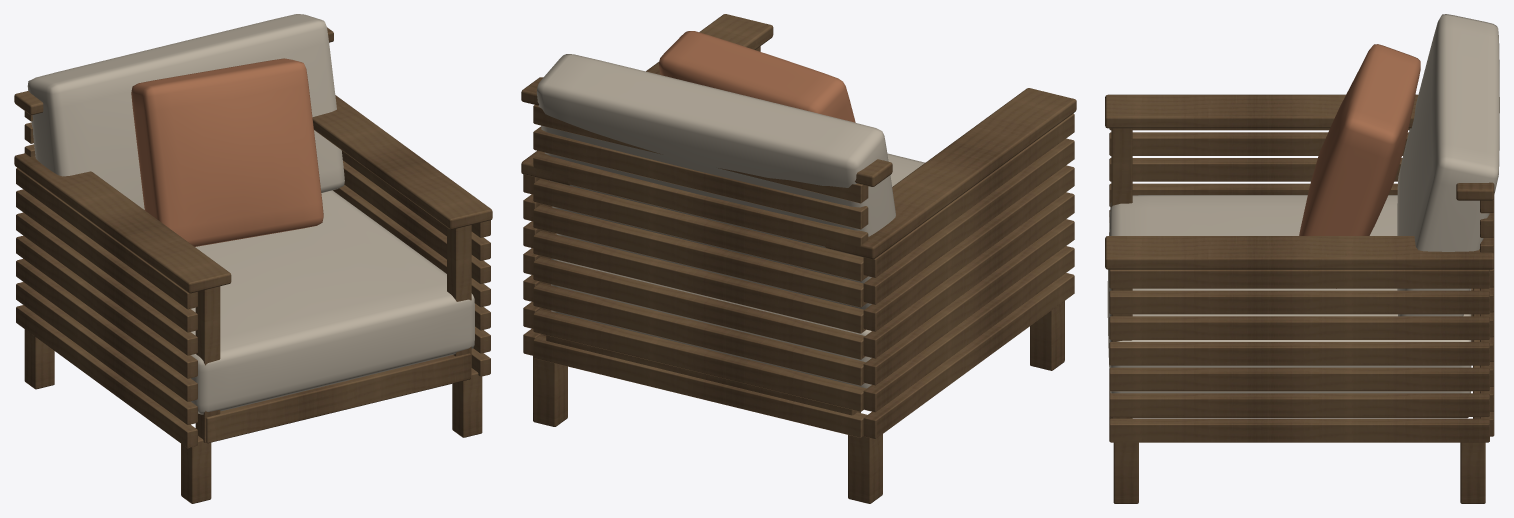
File: courtyard_armchair.gltf
3 views of the same model, side by side, from view 1: azimuth 30°, elevation 25°; view 2: azimuth 150°, elevation 25°; view 3: azimuth 270°, elevation 25° (orthographic). The views are drawn at different scales.
Visible parts, largest first — view 1: CourtyardArmchair_SeatCushion0, CourtyardArmchair_Pillow0, CourtyardArmchair_BackCushion0, CourtyardArmchair_ArmCapL, CourtyardArmchair_ArmCapR, CourtyardArmchair_RailFront, CourtyardArmchair_ArmSlatL4, CourtyardArmchair_ArmSlatL0, CourtyardArmchair_ArmSlatL2, CourtyardArmchair_ArmSlatL3, CourtyardArmchair_ArmSlatL5, CourtyardArmchair_ArmSlatL1 (+10 smaller); view 2: CourtyardArmchair_BackCushion0, CourtyardArmchair_ArmCapL, CourtyardArmchair_Pillow0, CourtyardArmchair_BackSlat6, CourtyardArmchair_BackSlat5, CourtyardArmchair_BackSlat1, CourtyardArmchair_BackSlat2, CourtyardArmchair_BackSlat3, CourtyardArmchair_BackSlat4, CourtyardArmchair_BackSlat7, CourtyardArmchair_BackSlat0, CourtyardArmchair_BackSlat8 (+15 smaller); view 3: CourtyardArmchair_BackCushion0, CourtyardArmchair_Pillow0, CourtyardArmchair_SeatCushion0, CourtyardArmchair_ArmCapR, CourtyardArmchair_ArmSlatR5, CourtyardArmchair_ArmSlatR0, CourtyardArmchair_ArmSlatR2, CourtyardArmchair_ArmSlatR1, CourtyardArmchair_ArmSlatR3, CourtyardArmchair_ArmSlatR4, CourtyardArmchair_ArmCapL, CourtyardArmchair_ArmSlatR6 (+9 smaller).
Part boxes in pixels (x1,y1,x2,y2): CourtyardArmchair_SeatCushion0: (191, 190, 474, 414); CourtyardArmchair_Pillow0: (131, 58, 323, 246); CourtyardArmchair_BackCushion0: (27, 14, 344, 209); CourtyardArmchair_ArmCapL: (14, 153, 231, 293); CourtyardArmchair_ArmCapR: (312, 95, 492, 229); CourtyardArmchair_RailFront: (206, 353, 470, 443); CourtyardArmchair_ArmSlatL4: (16, 212, 197, 355); CourtyardArmchair_ArmSlatL0: (16, 305, 197, 448); CourtyardArmchair_ArmSlatL2: (16, 258, 197, 401); CourtyardArmchair_ArmSlatL3: (16, 235, 197, 378); CourtyardArmchair_ArmSlatL5: (16, 189, 197, 332); CourtyardArmchair_ArmSlatL1: (16, 282, 197, 424); CourtyardArmchair_BackCushion0: (536, 54, 895, 309); CourtyardArmchair_ArmCapL: (825, 88, 1076, 259); CourtyardArmchair_Pillow0: (659, 31, 855, 122); CourtyardArmchair_BackSlat6: (533, 178, 867, 281); CourtyardArmchair_BackSlat5: (533, 204, 866, 307); CourtyardArmchair_BackSlat1: (533, 309, 866, 411); CourtyardArmchair_BackSlat2: (533, 283, 865, 385); CourtyardArmchair_BackSlat3: (533, 257, 865, 359); CourtyardArmchair_BackSlat4: (533, 231, 865, 333); CourtyardArmchair_BackSlat7: (533, 152, 868, 252); CourtyardArmchair_BackSlat0: (533, 335, 866, 437); CourtyardArmchair_BackSlat8: (533, 126, 868, 229); CourtyardArmchair_BackCushion0: (1397, 14, 1499, 316); CourtyardArmchair_Pillow0: (1299, 44, 1420, 288); CourtyardArmchair_SeatCushion0: (1107, 195, 1471, 393); CourtyardArmchair_ArmCapR: (1105, 236, 1494, 269); CourtyardArmchair_ArmSlatR5: (1109, 290, 1489, 314); CourtyardArmchair_ArmSlatR0: (1109, 418, 1489, 442); CourtyardArmchair_ArmSlatR2: (1109, 367, 1489, 391); CourtyardArmchair_ArmSlatR1: (1109, 393, 1489, 416); CourtyardArmchair_ArmSlatR3: (1109, 342, 1489, 365); CourtyardArmchair_ArmSlatR4: (1109, 316, 1489, 339); CourtyardArmchair_ArmCapL: (1105, 94, 1418, 128); CourtyardArmchair_ArmSlatR6: (1109, 269, 1489, 288).
Bounding box in the file's own units: 0.92 × 0.9009 × 0.9333.
3 materials, 1 textured.
